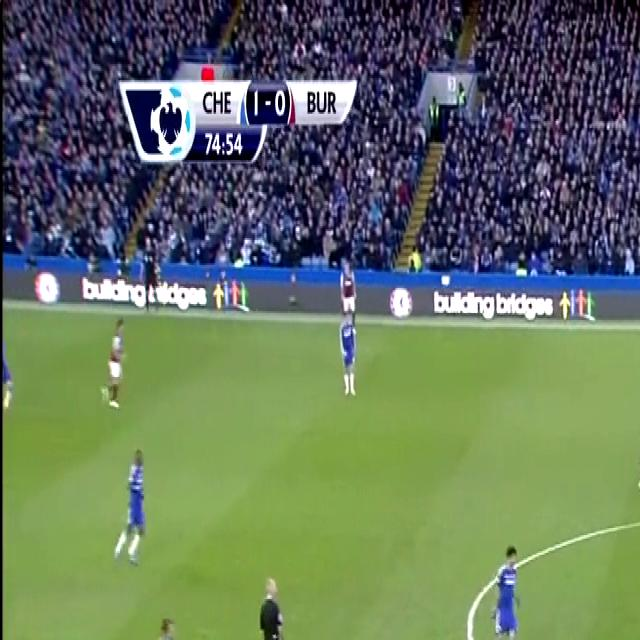referee: (252, 562, 294, 640), (134, 232, 169, 320)
soccer-player: (109, 442, 155, 577), (482, 530, 522, 640), (100, 308, 133, 416), (336, 304, 364, 403), (338, 254, 361, 334), (139, 608, 189, 640), (635, 377, 640, 499)
